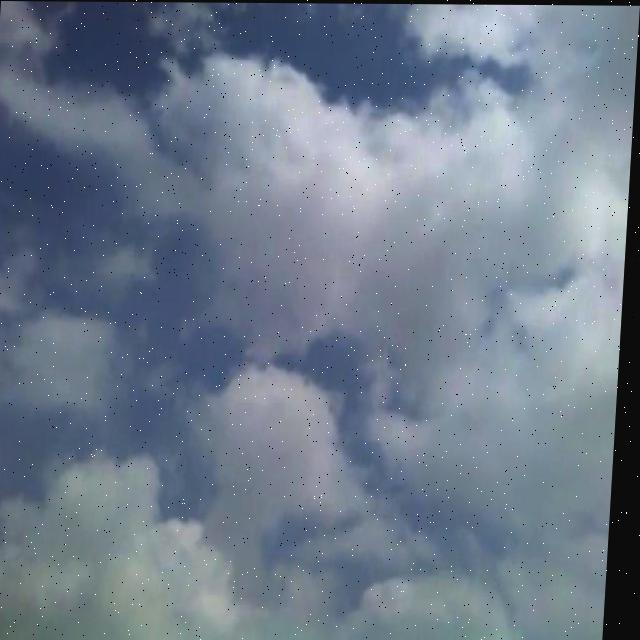drone: (307, 369, 316, 382)
